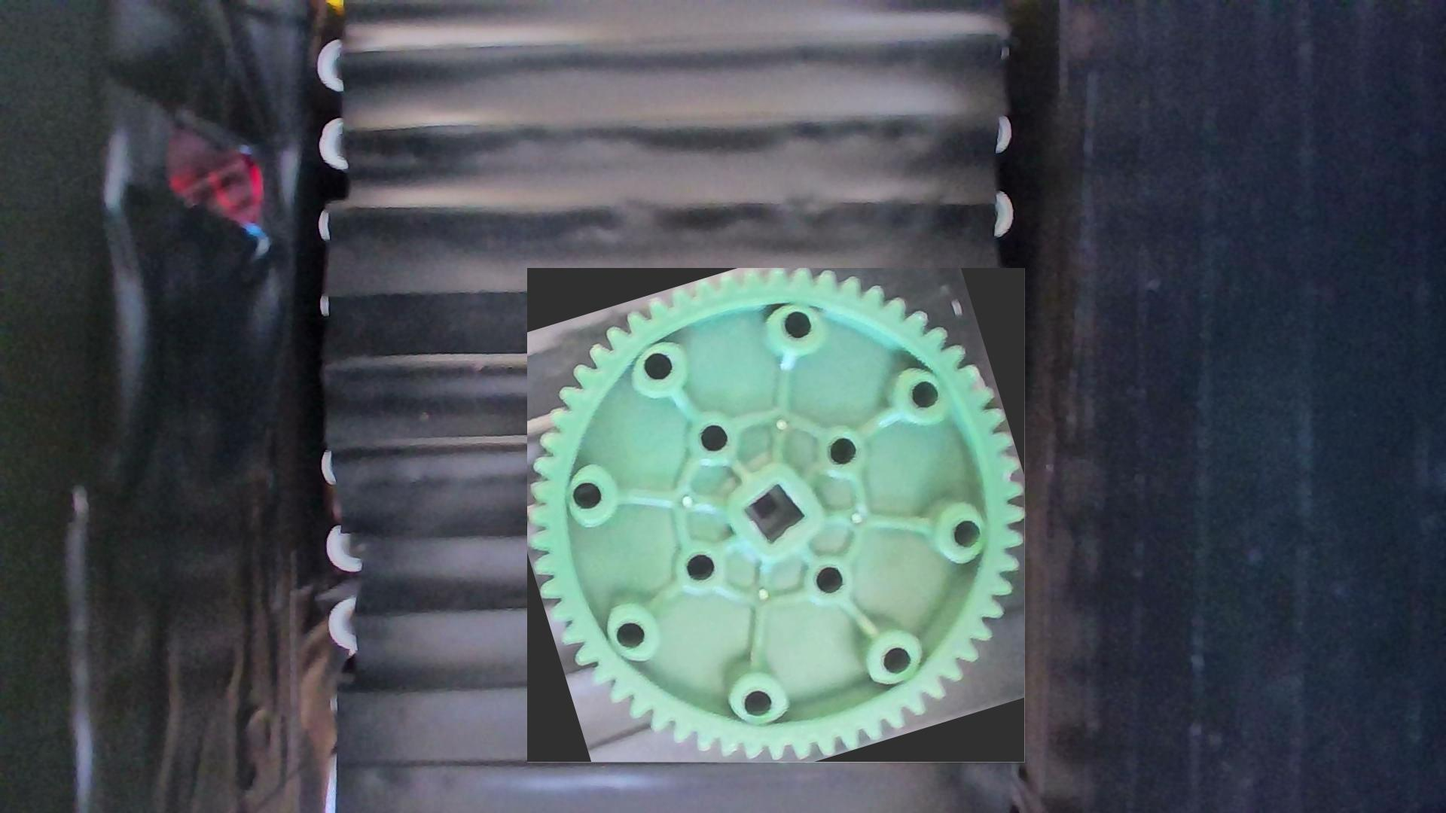gear: (528, 269, 1026, 763)
